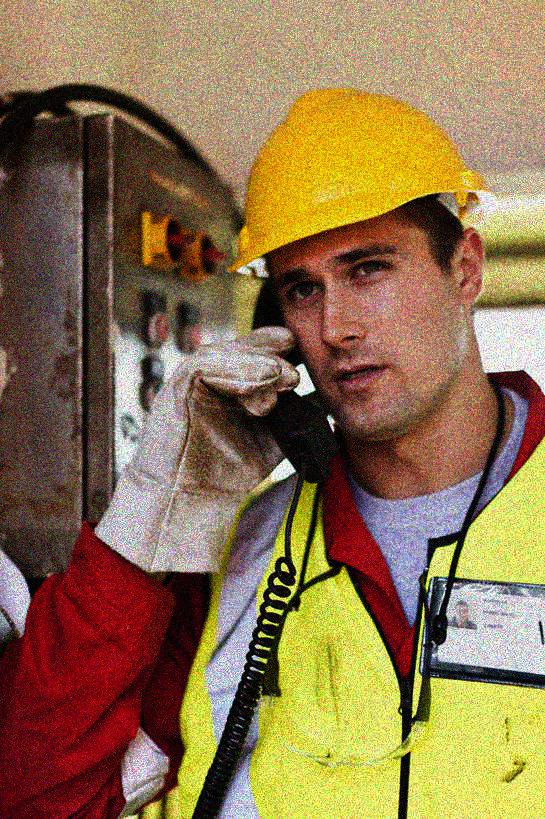helmet: (227, 78, 497, 446)
